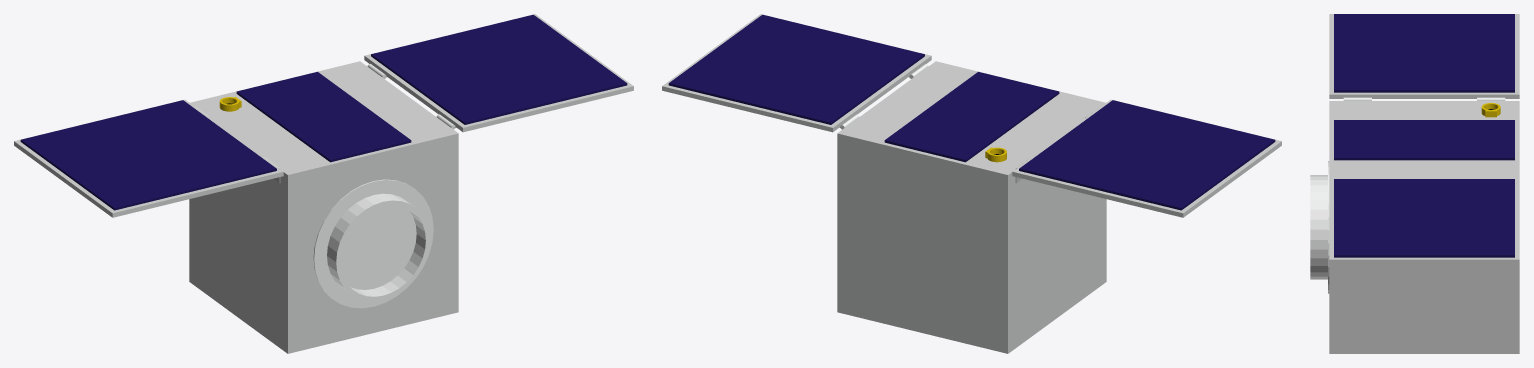
File: koyoh_simple_model.glb
The picture shows the model from 3 angles, left to right: view 1: azimuth 30°, elevation 25°; view 2: azimuth 150°, elevation 25°; view 3: azimuth 270°, elevation 25°; orthographic projection. The views are drawn at different scales.
Parts seen in each view (by area): view 1: 立方体.004; view 2: 立方体.004; view 3: 立方体.004.
Boxes of the visible parts, x1=… form: 立方体.004: x1=14, y1=14, x2=633, y2=353; 立方体.004: x1=662, y1=14, x2=1281, y2=353; 立方体.004: x1=1310, y1=14, x2=1519, y2=353.
Size of the model in its own units: 6.1 by 2.14 by 2.2.
